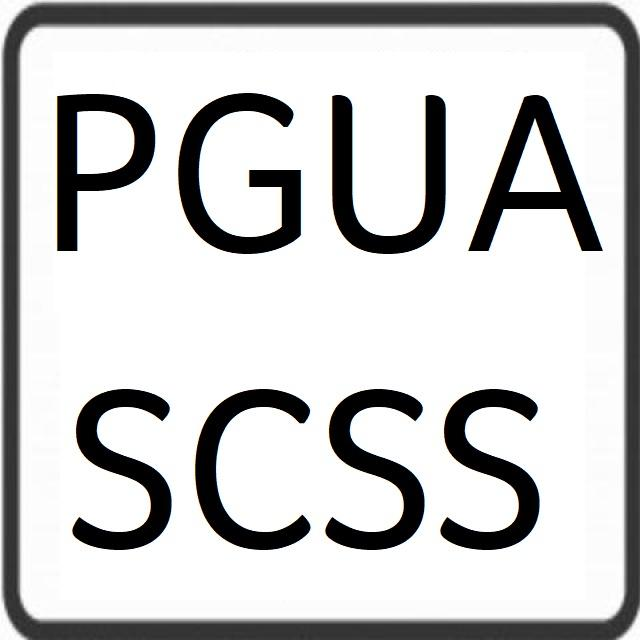A: (466, 59, 606, 278)
C: (172, 74, 302, 257), (194, 366, 322, 549)
P: (45, 82, 162, 269)
S: (66, 366, 180, 552), (442, 365, 552, 557), (324, 364, 430, 552)
U: (326, 77, 449, 262)
